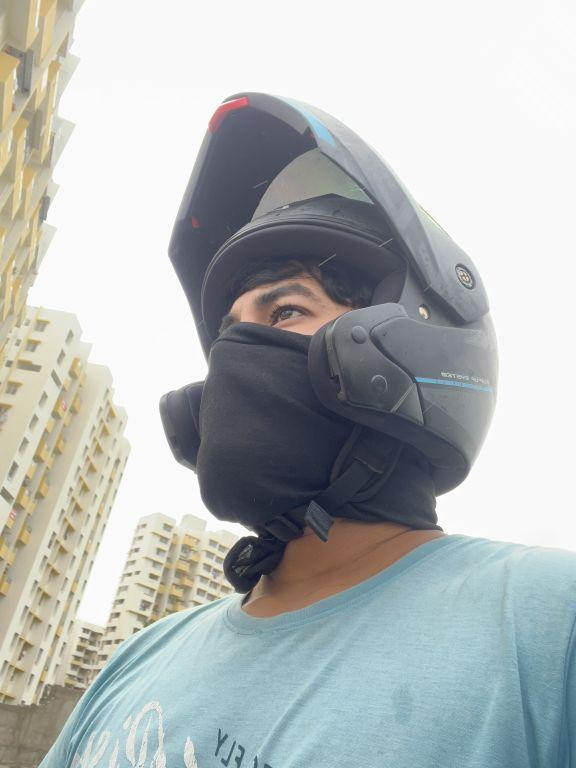helmet: (152, 80, 505, 547)
